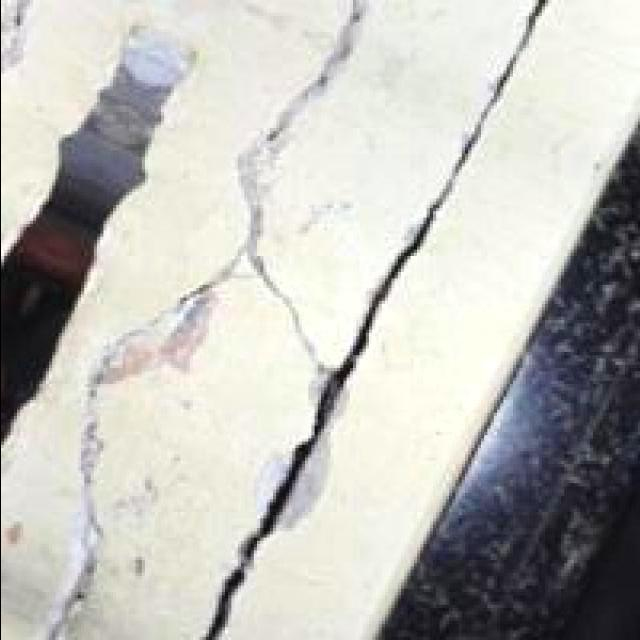SurfaceCrack: (164, 0, 574, 640)
